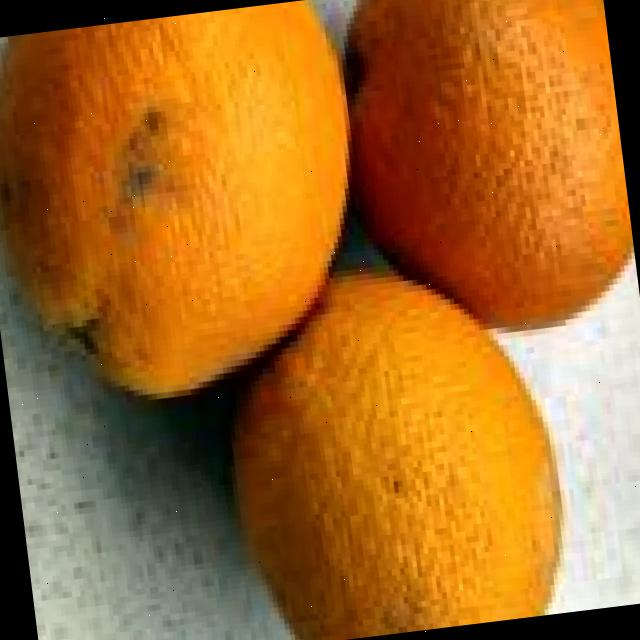Good_Orange-15-21 days: (0, 0, 634, 640)
